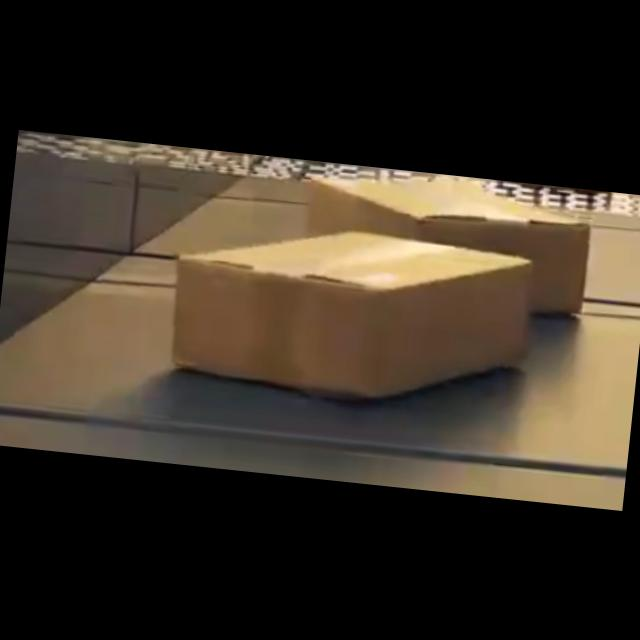box: (168, 210, 534, 416), (304, 167, 596, 316)
